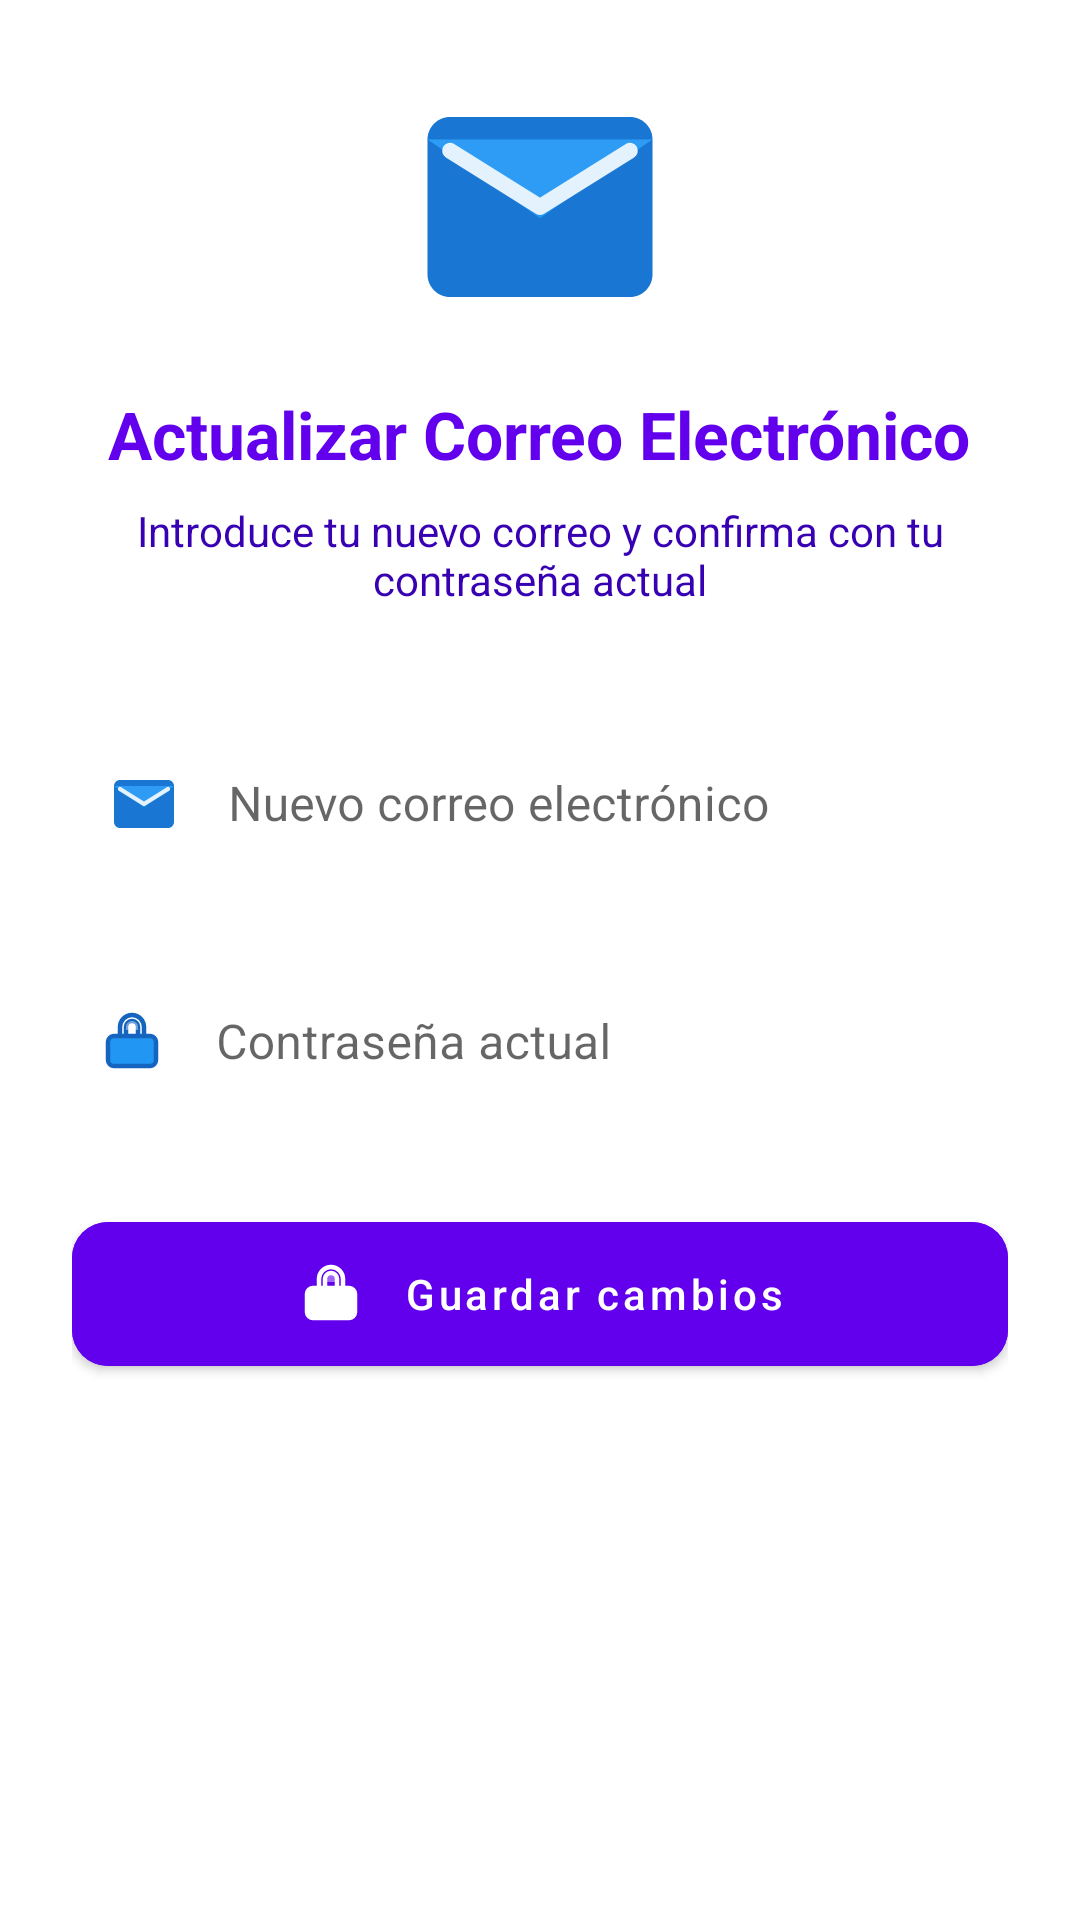

Screen size 1080w x 1920h. Icon name, then its center in pixels as point (x, y):
email modern: point (540, 207)
